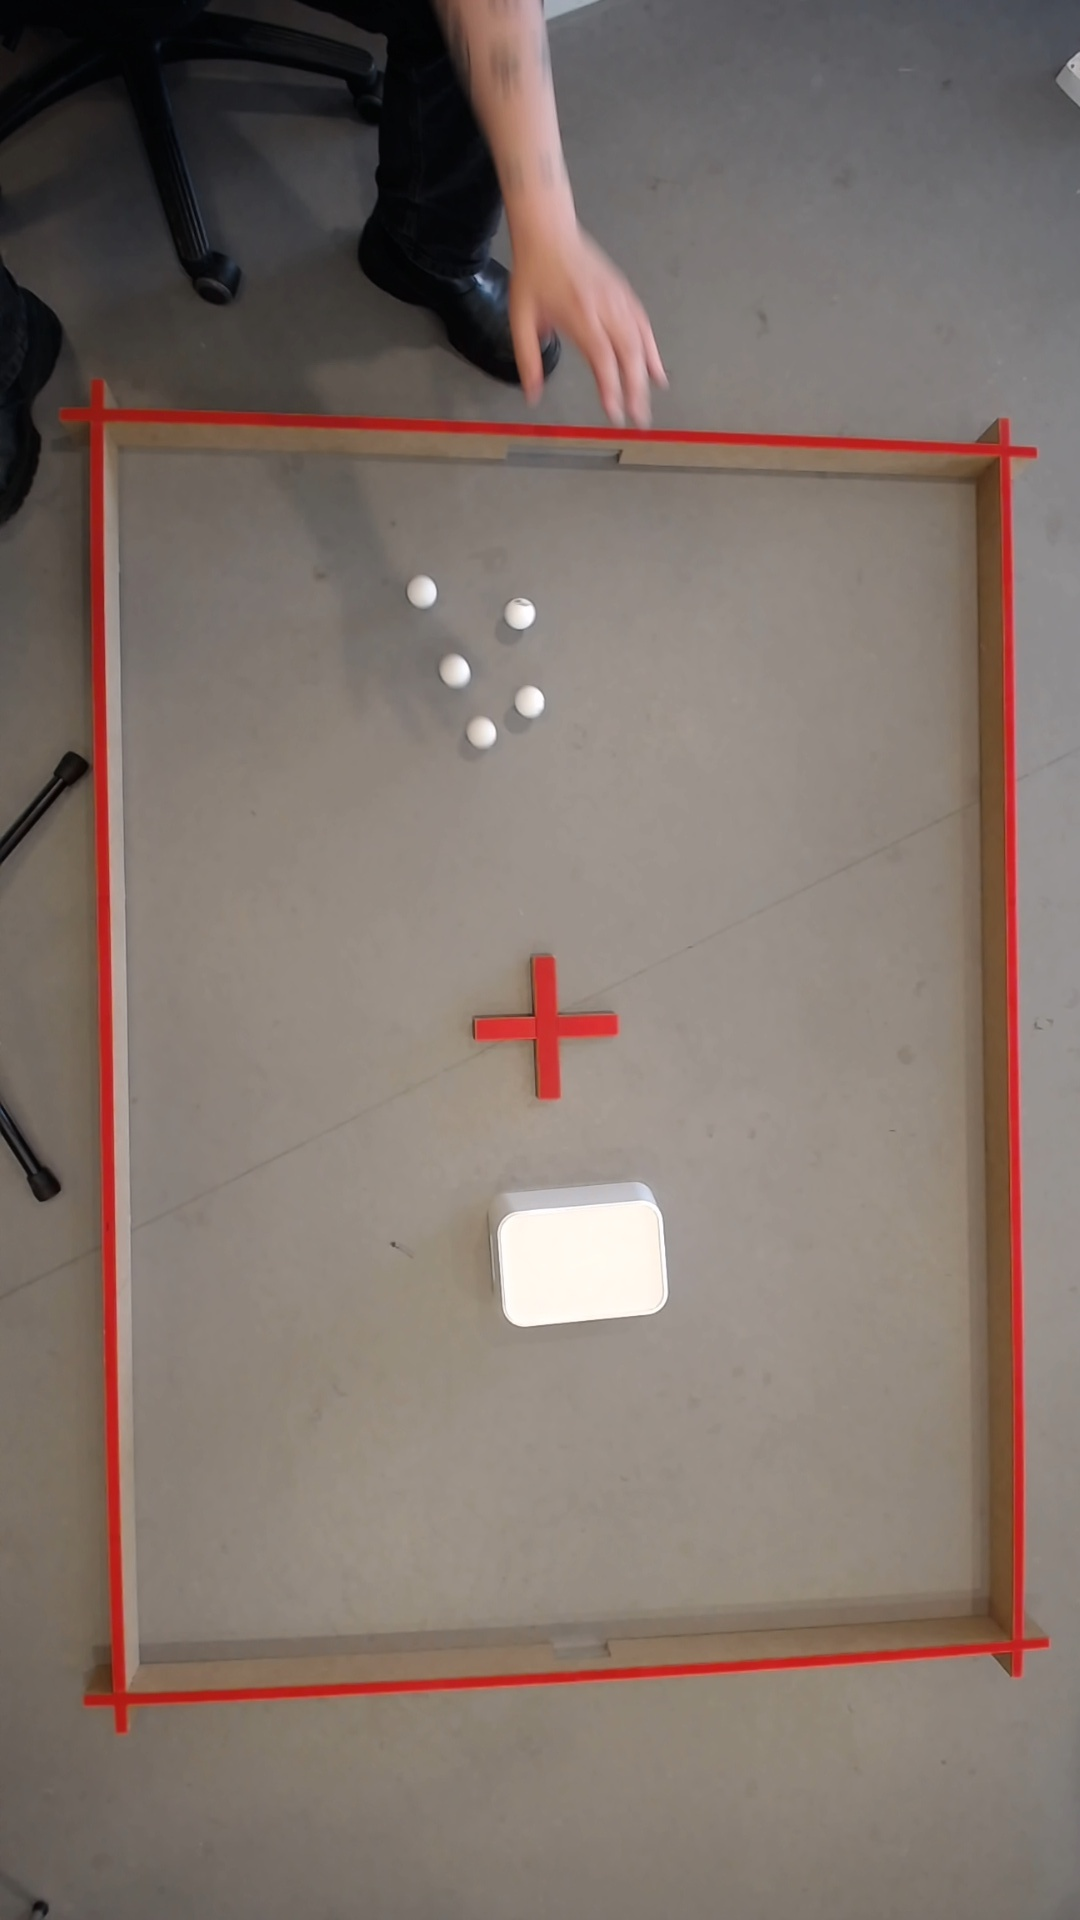balls: (491, 1180, 671, 1329), (533, 90, 579, 241), (516, 683, 549, 719), (443, 655, 475, 686), (414, 576, 440, 605), (476, 719, 495, 744)
car: (634, 353, 644, 381)
